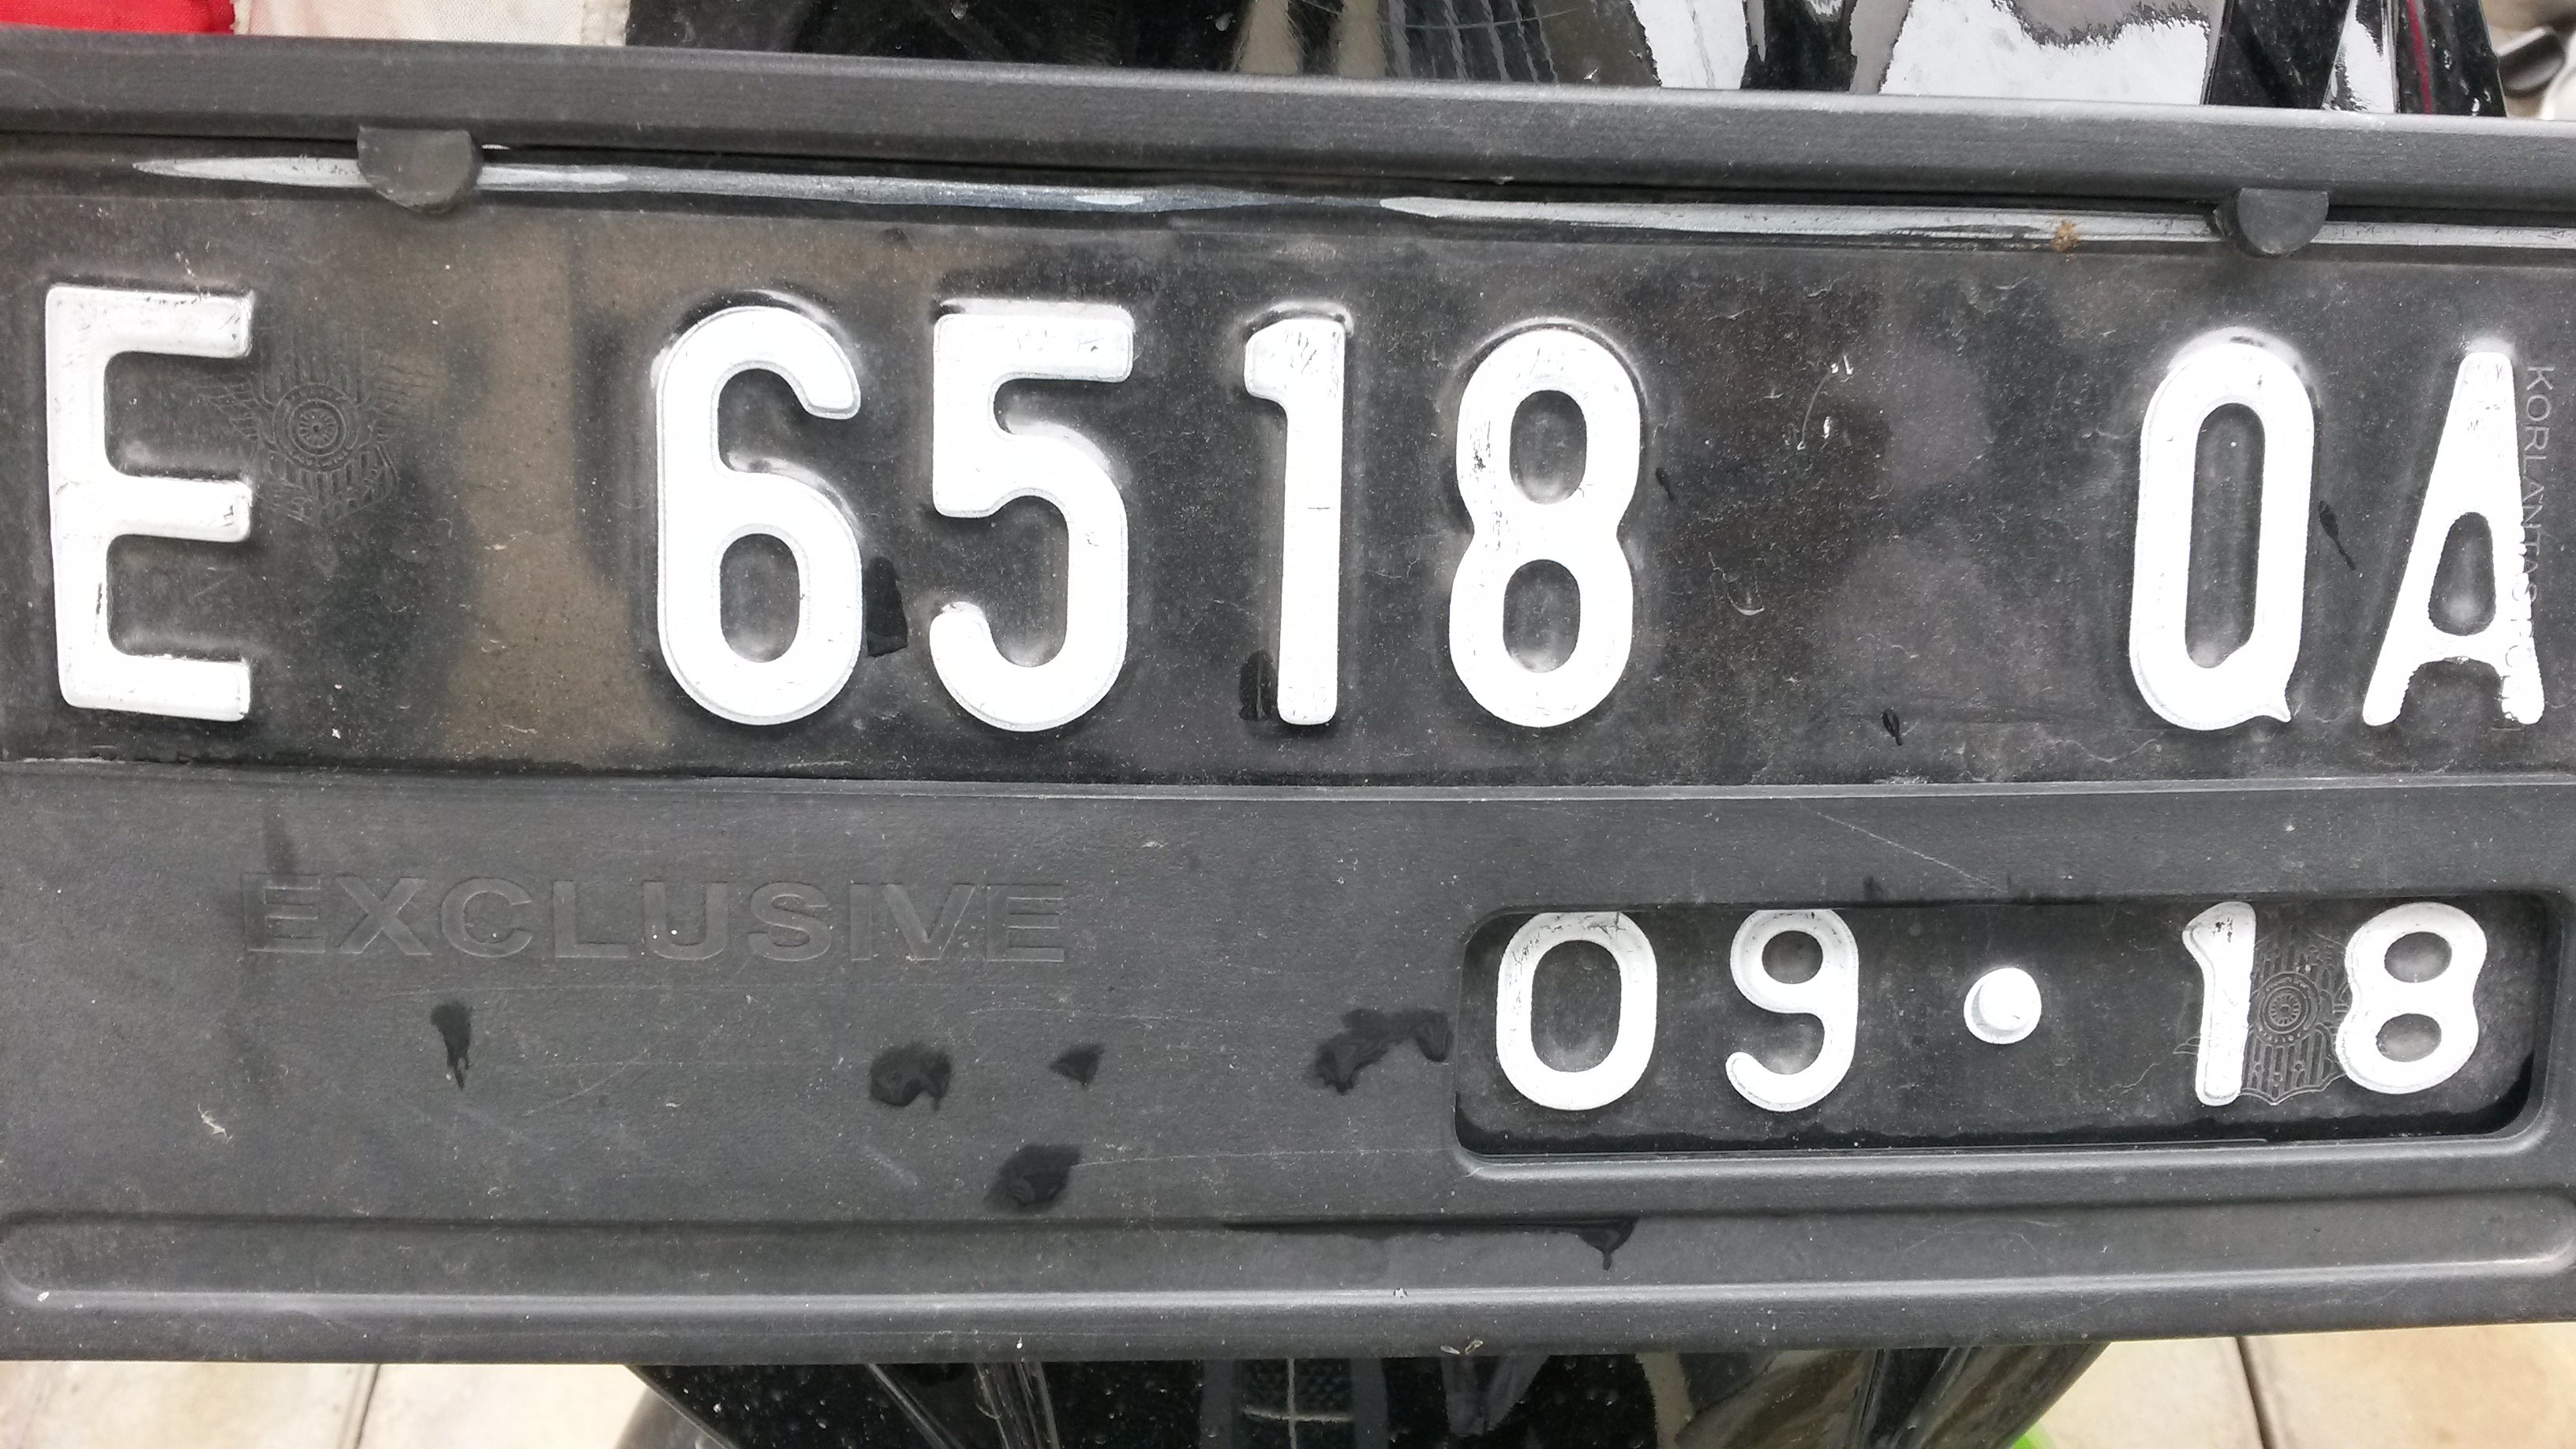plate: (6, 136, 2576, 1182)
